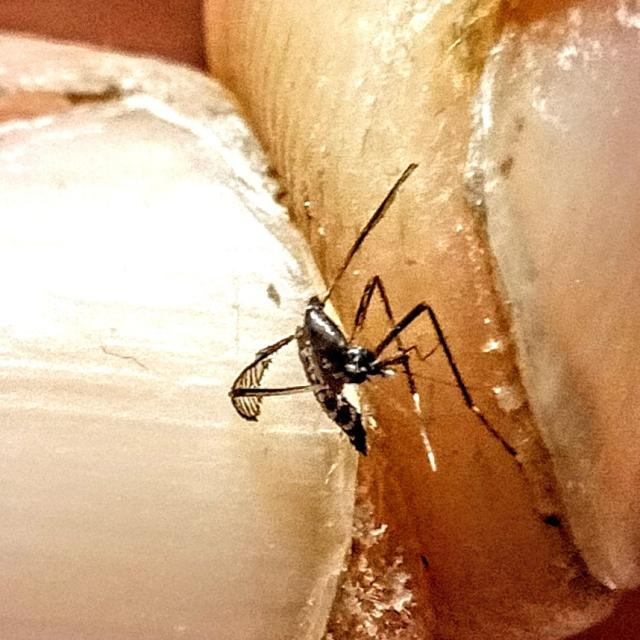albopictus: (218, 137, 547, 495)
